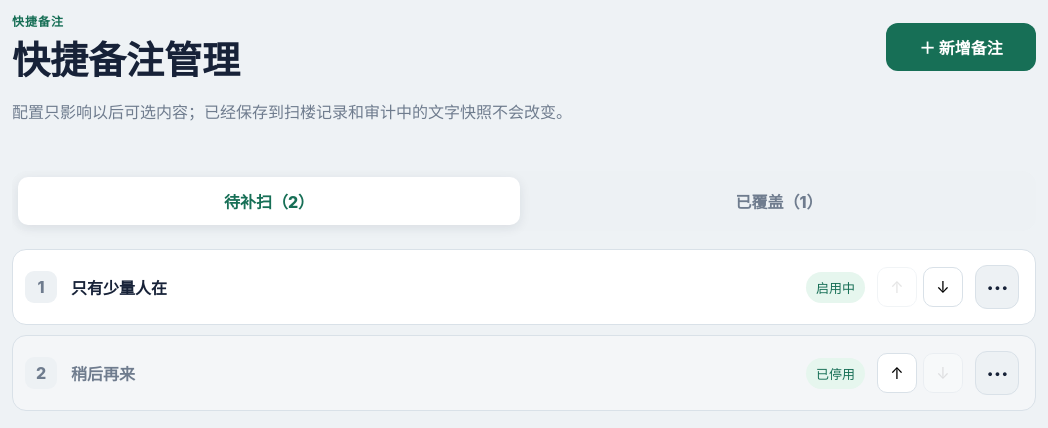
Scenario: QuickNoteManager › switches status groups and shows order and active state
Expected: the text "只有少量人在" is shown, [71,278,167,298]
Expected: the text "已停用" is shown, [806,358,865,389]
Click the tab "已覆盖（1）": (779, 201) [528,177,1030,225]
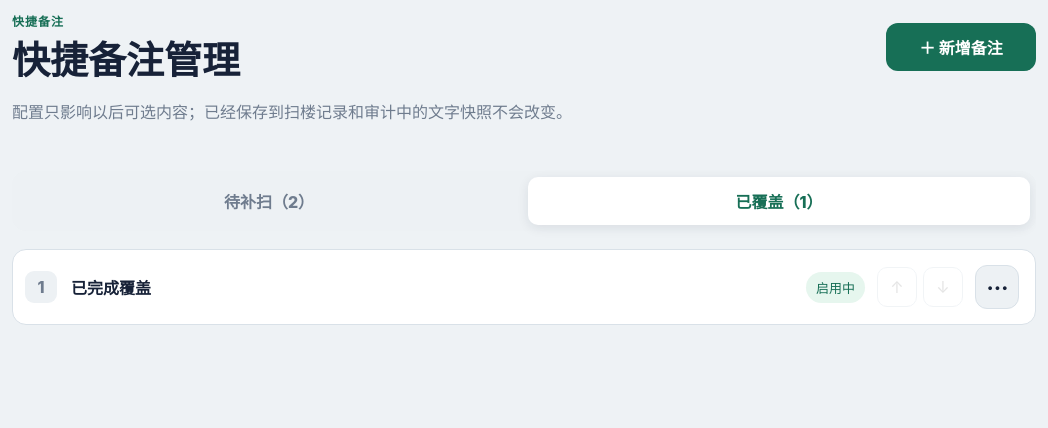
Expected: the text "已完成覆盖" is shown, [71,278,151,298]
Expected: the text "只有少量人在" is gone
